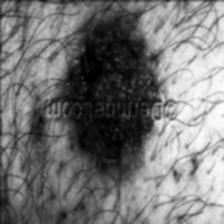Non-Cancerous Skin Condition: (60, 12, 174, 100), (64, 130, 163, 172)
